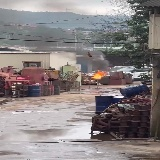fire: (90, 70, 106, 79)
